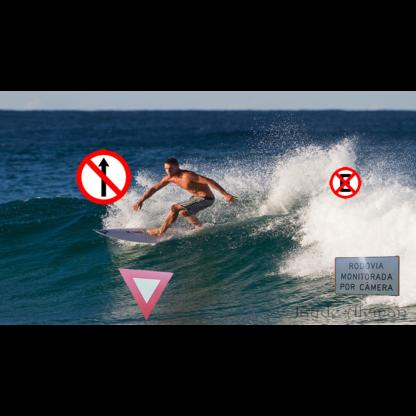I-E: (335, 256, 399, 296)
R-2: (118, 268, 173, 320)
R-3: (76, 150, 131, 204)
R-6c: (329, 167, 361, 199)
